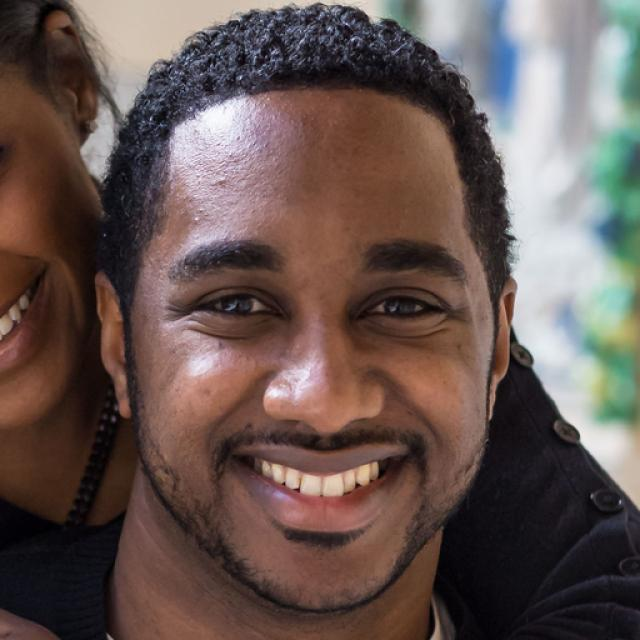happy: (130, 91, 492, 609)
